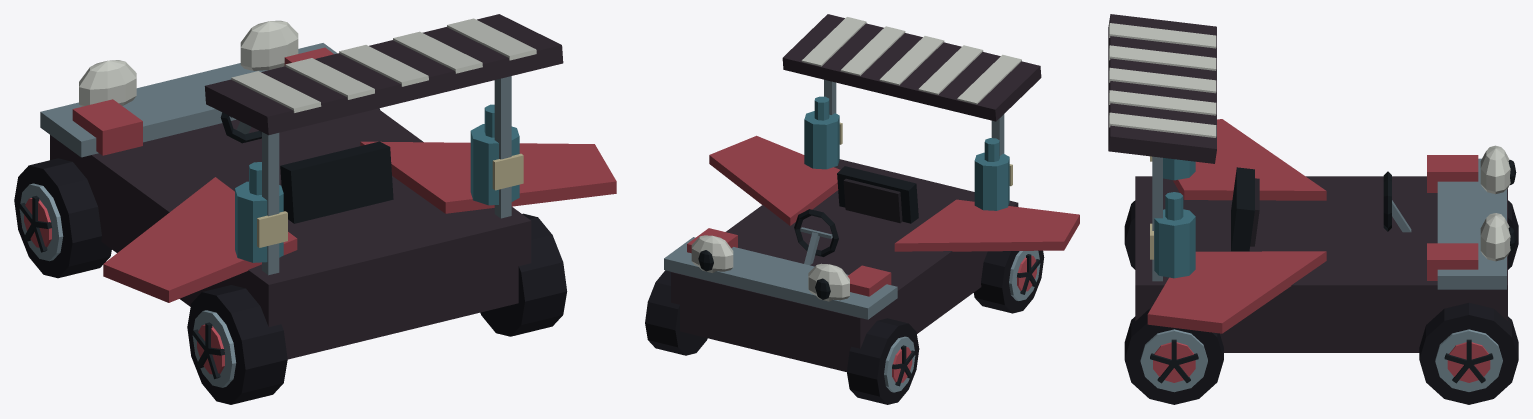
File: kart.glb
The picture shows the model from 3 angles, left to right: view 1: azimuth 30°, elevation 25°; view 2: azimuth 150°, elevation 25°; view 3: azimuth 270°, elevation 25°; orthographic projection. The views are drawn at different scales.
Parts seen in each view (by area): view 1: identity-food-cart-food-cart-counter-and-awning, identity-food-cart-motif-wings, wheel-rear-left, wheel-front-left, identity-food-cart-driver-cockpit, identity-food-cart-motif-bottles, wheel-rear-right, identity-food-cart-motif-eyes; view 2: identity-food-cart-food-cart-counter-and-awning, identity-food-cart-motif-wings, wheel-front-left, identity-food-cart-driver-cockpit, identity-food-cart-motif-bottles, wheel-rear-left, identity-food-cart-motif-eyes, wheel-front-right; view 3: identity-food-cart-food-cart-counter-and-awning, identity-food-cart-motif-wings, wheel-front-right, wheel-rear-right, identity-food-cart-motif-bottles, identity-food-cart-driver-cockpit, identity-food-cart-motif-eyes, wheel-rear-left, wheel-front-left.
Boxes of the visible parts, <box> form: identity-food-cart-food-cart-counter-and-awning: <box>40,14,563,359</box>; identity-food-cart-motif-wings: <box>103,141,616,302</box>; wheel-rear-left: <box>187,285,287,404</box>; wheel-front-left: <box>14,158,111,278</box>; identity-food-cart-driver-cockpit: <box>220,112,393,223</box>; identity-food-cart-motif-bottles: <box>235,104,523,262</box>; wheel-rear-right: <box>480,213,567,336</box>; identity-food-cart-motif-eyes: <box>79,20,298,106</box>; identity-food-cart-food-cart-counter-and-awning: <box>664,14,1041,371</box>; identity-food-cart-motif-wings: <box>709,135,1079,251</box>; wheel-front-left: <box>847,318,919,404</box>; identity-food-cart-driver-cockpit: <box>794,166,918,265</box>; identity-food-cart-motif-bottles: <box>804,96,1012,210</box>; wheel-rear-left: <box>974,250,1044,313</box>; identity-food-cart-motif-eyes: <box>691,235,849,301</box>; wheel-front-right: <box>645,270,707,355</box>; identity-food-cart-food-cart-counter-and-awning: <box>1108,14,1507,352</box>; identity-food-cart-motif-wings: <box>1147,119,1326,333</box>; wheel-front-right: <box>1419,302,1518,404</box>; wheel-rear-right: <box>1124,308,1223,404</box>; identity-food-cart-motif-bottles: <box>1150,156,1195,278</box>; identity-food-cart-driver-cockpit: <box>1231,167,1411,251</box>; identity-food-cart-motif-eyes: <box>1480,145,1516,261</box>; wheel-rear-left: <box>1124,200,1135,269</box>; wheel-front-left: <box>1508,200,1518,269</box>.
Size of the model in its own units: 2.92 by 1.76 by 2.48.
